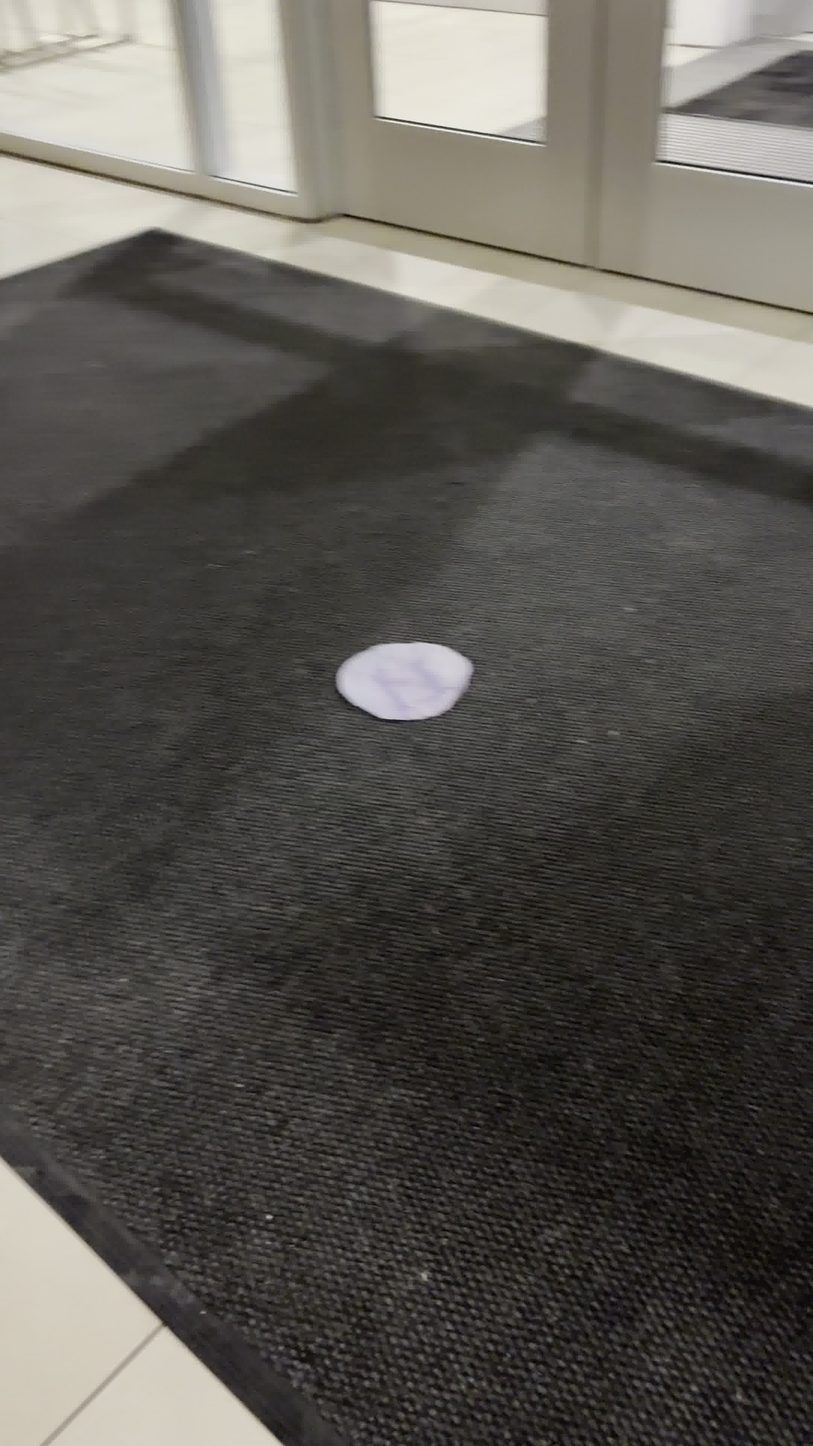Target: (336, 642, 474, 721)
